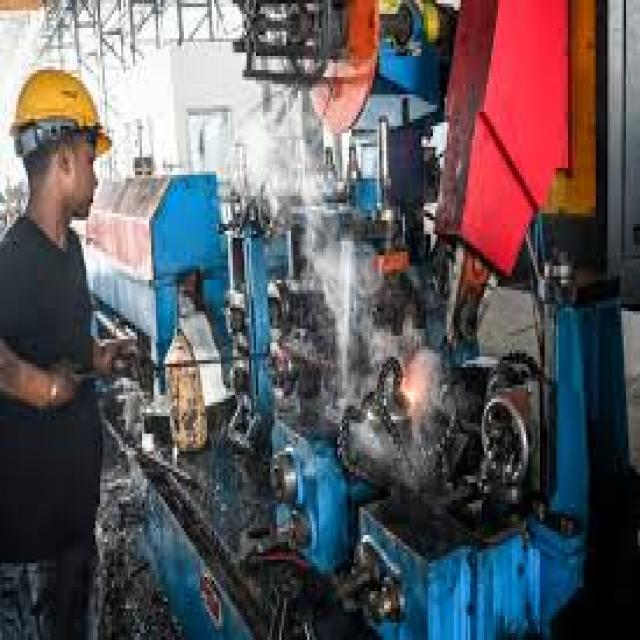Safety-Helmet: (2, 59, 119, 161)
